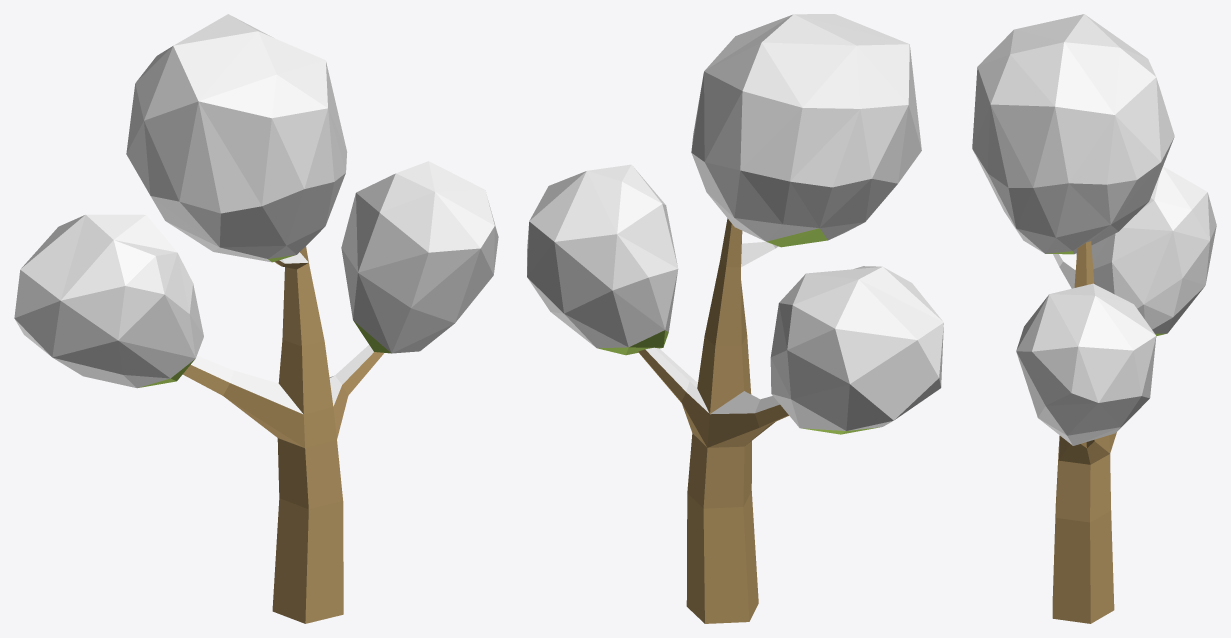
The model's file is Simple_Tree_m_Snow_01.fbx.
3 views of the same model, side by side, from view 1: azimuth 30°, elevation 25°; view 2: azimuth 150°, elevation 25°; view 3: azimuth 270°, elevation 25° (orthographic). The views are drawn at different scales.
Visible parts, largest first — view 1: Simple_Tree_m_Snow_01; view 2: Simple_Tree_m_Snow_01; view 3: Simple_Tree_m_Snow_01.
Boxes of the visible parts, box(x1,y1,x2,y2) form: Simple_Tree_m_Snow_01: box(14, 14, 498, 623); Simple_Tree_m_Snow_01: box(527, 14, 943, 623); Simple_Tree_m_Snow_01: box(972, 14, 1216, 623).
Bounding box in the file's own units: 511 × 666 × 273.
